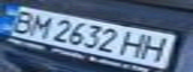2: (48, 16, 72, 44), (100, 25, 121, 55)
3: (81, 22, 103, 52)
6: (66, 20, 87, 47)
B: (3, 8, 42, 34)
H: (139, 34, 175, 63), (118, 30, 151, 60)
M: (24, 11, 57, 38)
